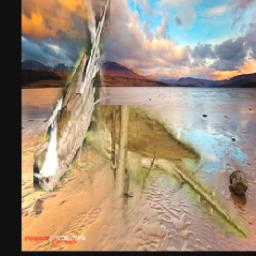Cuckoo: (55, 105, 249, 238), (32, 0, 109, 193)
